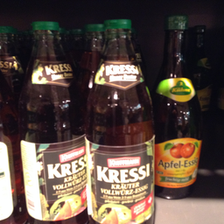vinegar: (16, 22, 89, 223), (88, 20, 157, 224), (156, 14, 202, 201)
